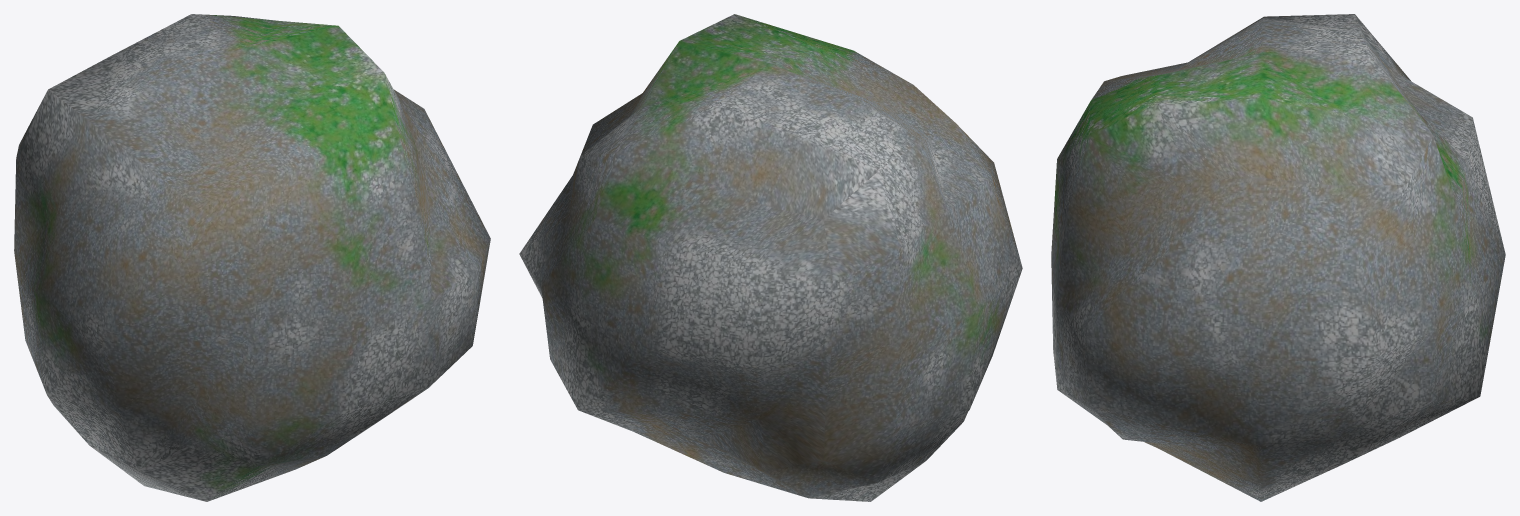
The model's file is stone1.obj.
3 views of the same model, side by side, from view 1: azimuth 30°, elevation 25°; view 2: azimuth 150°, elevation 25°; view 3: azimuth 270°, elevation 25° (orthographic). The views are drawn at different scales.
Visible parts, largest first — view 1: __tmp___stone1; view 2: __tmp___stone1; view 3: __tmp___stone1.
Boxes of the visible parts, x1=… form: __tmp___stone1: x1=14, y1=14, x2=490, y2=501; __tmp___stone1: x1=519, y1=14, x2=1022, y2=501; __tmp___stone1: x1=1051, y1=14, x2=1505, y2=501.
Size of the model in its own units: 195 by 190 by 183.
1 material, 1 textured.
